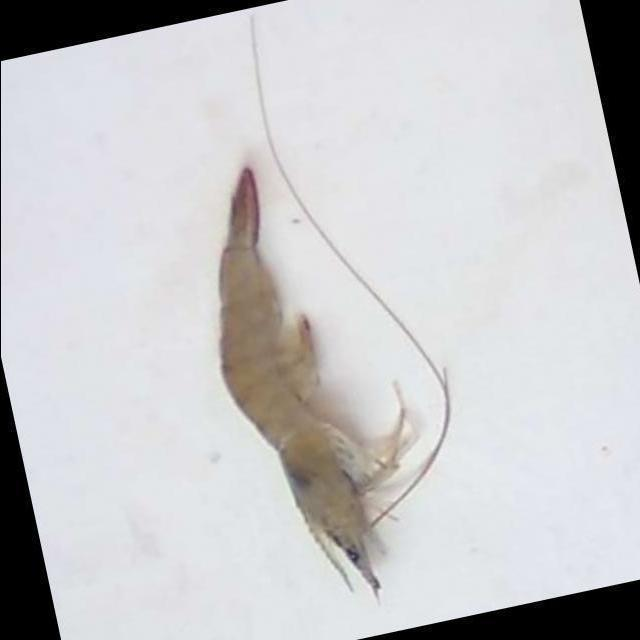shrimp: (219, 167, 409, 597)
